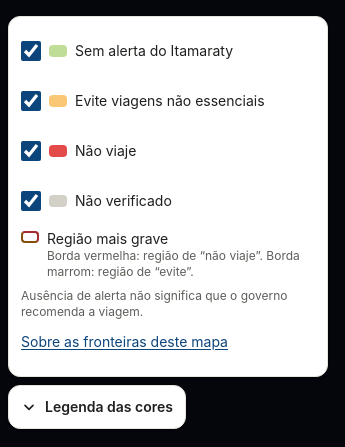
LegendaRecolhivel: estado lembrado entre visitas › sem localStorage (leitura e gravação lançam erro), abre na regra da largura e ainda alterna
Click the button "Legenda das cores" at (97, 407), box x1=8 y1=385 x2=186 y2=429
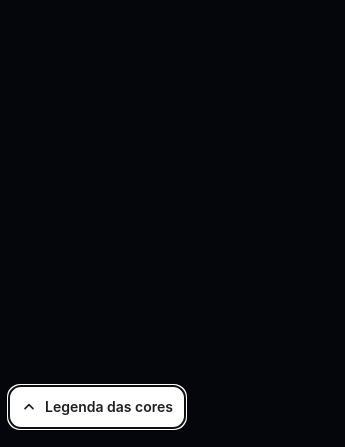
Expected: the button "Legenda das cores" is collapsed, x1=8 y1=385 x2=186 y2=429
Expected: no checkboxes are shown
